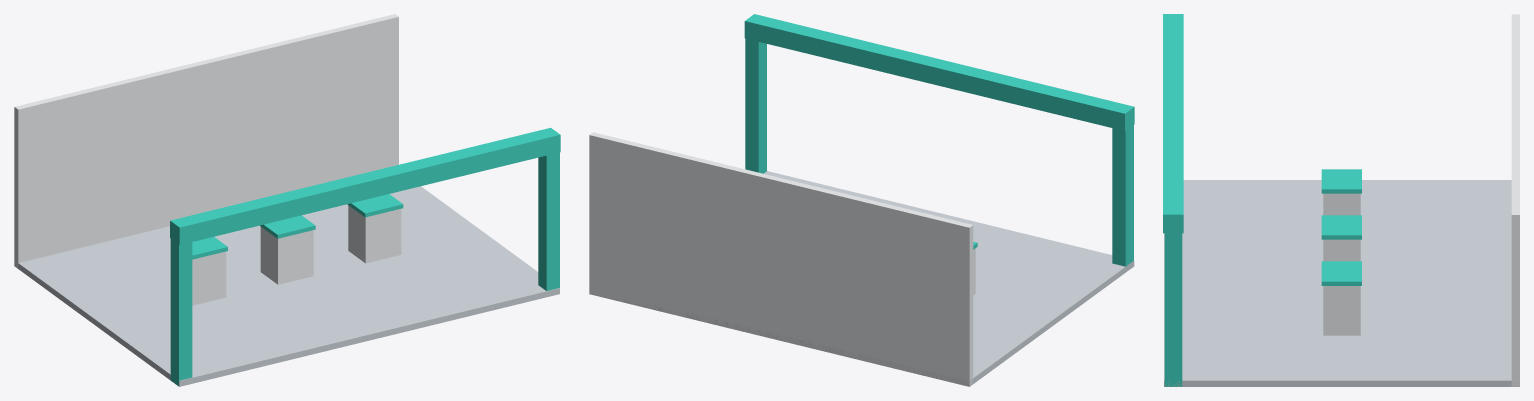
3 renders of one model, left to right at view 1: azimuth 30°, elevation 25°; view 2: azimuth 150°, elevation 25°; view 3: azimuth 270°, elevation 25°, orthographic. The views are drawn at different scales.
Parts seen in each view (by area): view 1: Exhibition Booth Concept; view 2: Exhibition Booth Concept; view 3: Exhibition Booth Concept.
Boxes of the visible parts, x1,y1,x2,y2 form: Exhibition Booth Concept: (14,14,560,386); Exhibition Booth Concept: (589,14,1134,386); Exhibition Booth Concept: (1163,14,1519,386).
Size of the model in its own units: 8 by 3.2 by 6.02.
